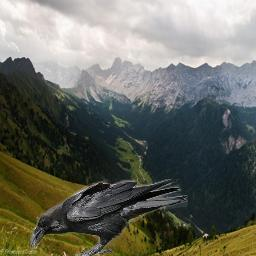Crow: (30, 179, 188, 256)
